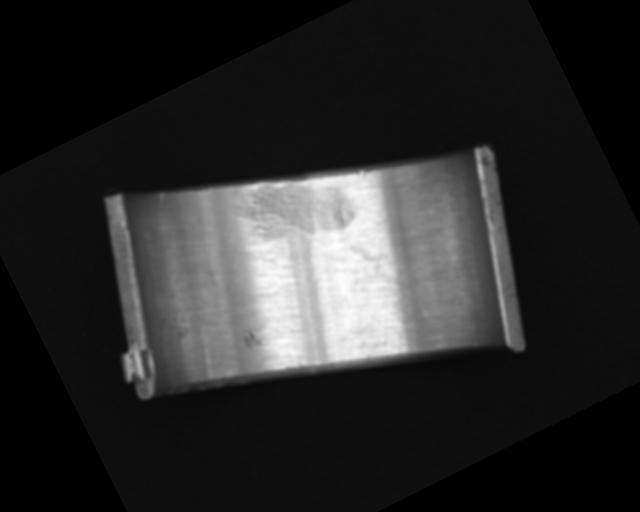blot: (336, 226, 405, 298)
bruise: (239, 326, 265, 352), (355, 166, 371, 180)
nick: (153, 191, 167, 206)
scratch: (225, 150, 361, 271)
